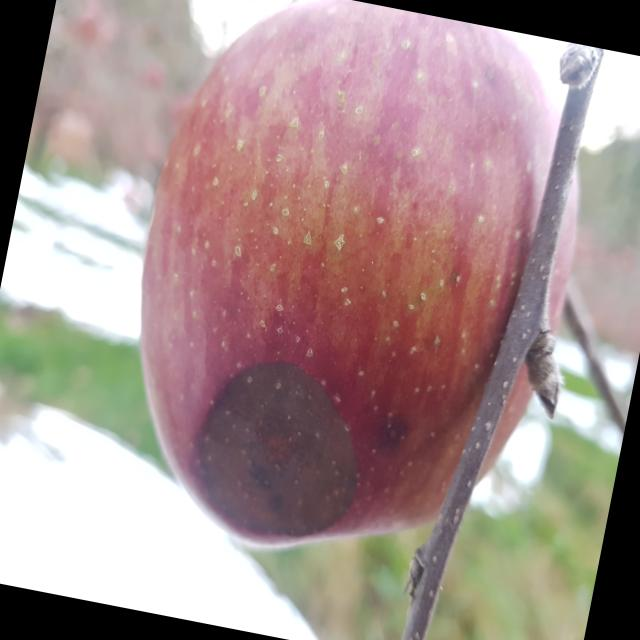rotten: (82, 1, 622, 606)
